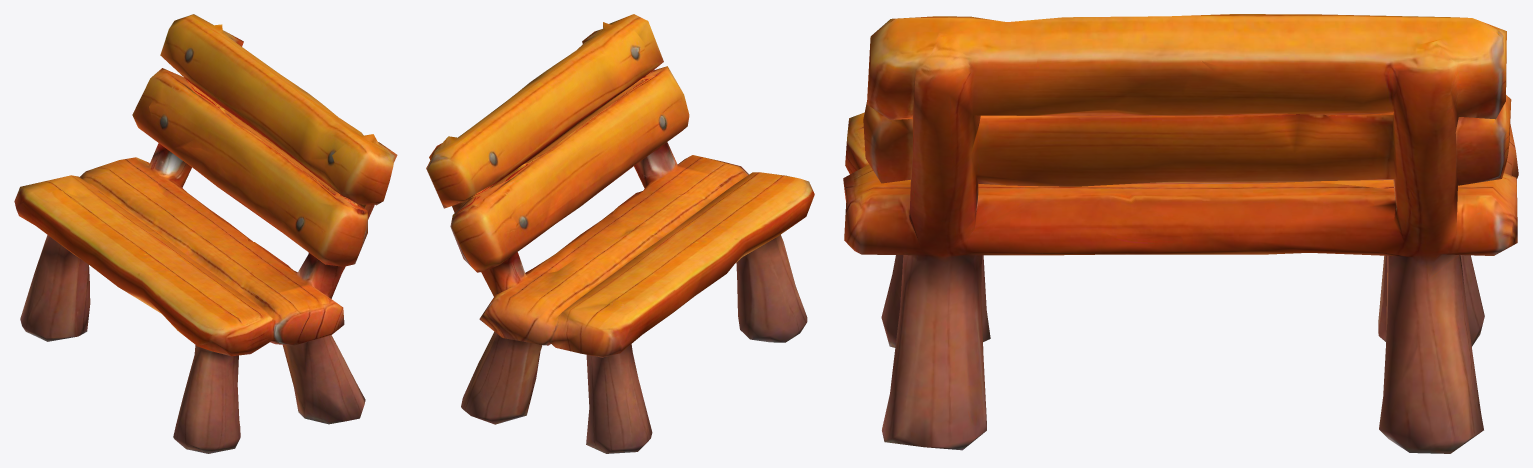
Rendered from park_bench.glb.
3 views of the same model, side by side, from view 1: azimuth 30°, elevation 25°; view 2: azimuth 150°, elevation 25°; view 3: azimuth 270°, elevation 25° (orthographic). The views are drawn at different scales.
Parts seen in each view (by area): view 1: Mesh1; view 2: Mesh1; view 3: Mesh1.
Boxes of the visible parts, left/top/right/bottom form: Mesh1: left=14, top=14, right=397, bottom=453; Mesh1: left=426, top=14, right=814, bottom=453; Mesh1: left=843, top=14, right=1518, bottom=453.
Bounding box in the file's own units: 1.19 × 1.43 × 2.
1 material, 1 textured.
